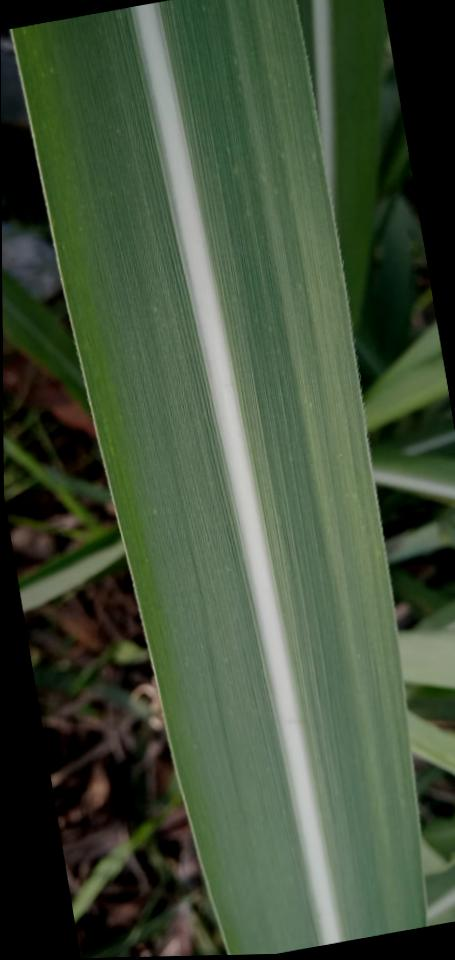Healthy: (12, 0, 425, 955), (302, 0, 387, 329)
